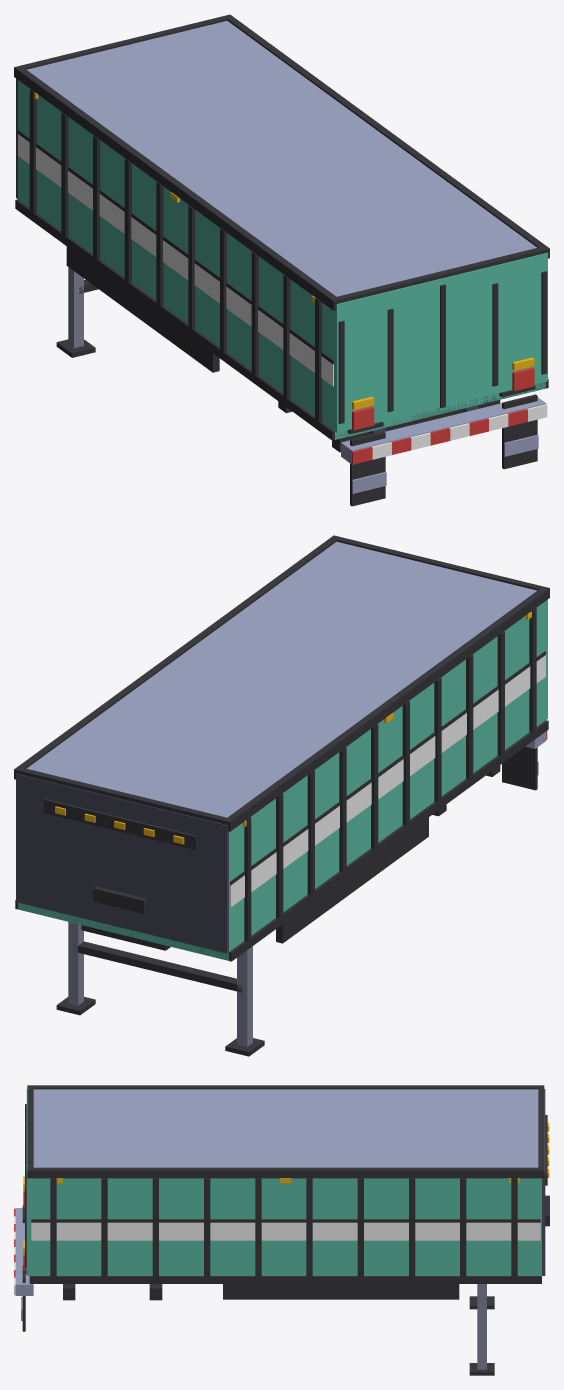
File: trailer.glb
3 renders of one model, top to bottom at view 1: azimuth 30°, elevation 25°; view 2: azimuth 150°, elevation 25°; view 3: azimuth 270°, elevation 25°, orthographic. The views are drawn at different scales.
Parts seen in each view (by area): view 1: body, trailer_door_left, trailer_door_right, trailer_bumper; view 2: body; view 3: body, trailer_bumper, trailer_door_right.
Boxes of the visible parts, x1,y1,x2,y2 form: body: [14, 14, 549, 506]; trailer_door_left: [335, 278, 442, 432]; trailer_door_right: [442, 252, 547, 405]; trailer_bumper: [341, 397, 547, 464]; body: [14, 535, 549, 1056]; body: [21, 1085, 549, 1375]; trailer_bumper: [14, 1208, 33, 1295]; trailer_door_right: [23, 1131, 29, 1275].
Bounding box in the file's own units: 2.58 × 2.94 × 6.8.
1 material, 1 textured.
